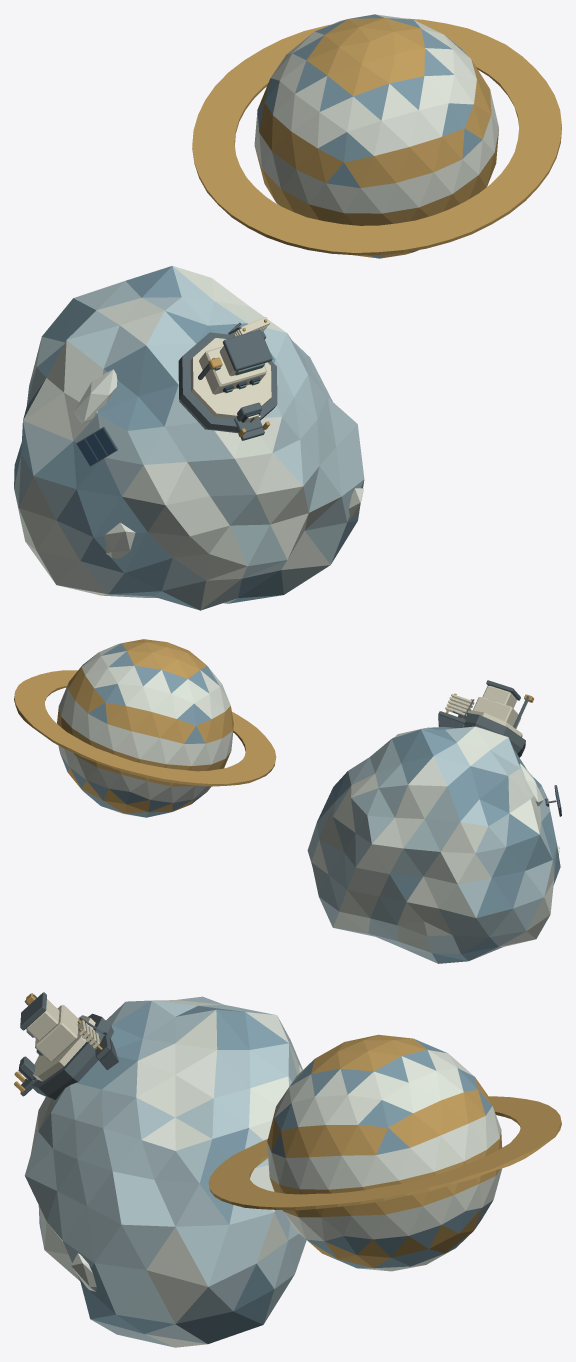
The model's file is outer.glb.
The picture shows the model from 3 angles, top to bottom: view 1: azimuth 30°, elevation 25°; view 2: azimuth 150°, elevation 25°; view 3: azimuth 270°, elevation 25°; orthographic projection. The views are drawn at different scales.
Parts seen in each view (by area): view 1: S1_outer • modeled surfaces; view 2: S1_outer • modeled surfaces; view 3: S1_outer • modeled surfaces.
Part boxes in pixels (bbox=[...]): S1_outer • modeled surfaces: bbox=[14, 14, 561, 610]; S1_outer • modeled surfaces: bbox=[14, 639, 561, 963]; S1_outer • modeled surfaces: bbox=[14, 992, 561, 1347].
Bounding box in the file's own units: 2.48 × 1.63 × 1.99.
